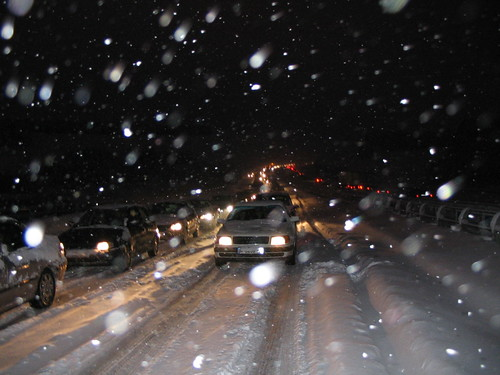car: (1, 210, 69, 322), (64, 202, 160, 273), (216, 199, 300, 262), (151, 200, 196, 250)
